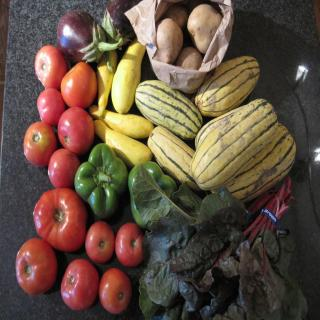tomato: (32, 186, 84, 252), (15, 237, 60, 295), (61, 258, 99, 310), (58, 107, 95, 157), (99, 268, 132, 317), (58, 60, 94, 103), (34, 44, 68, 89), (23, 120, 54, 167), (48, 148, 80, 189), (114, 222, 142, 267), (86, 220, 114, 264), (38, 90, 66, 124)
